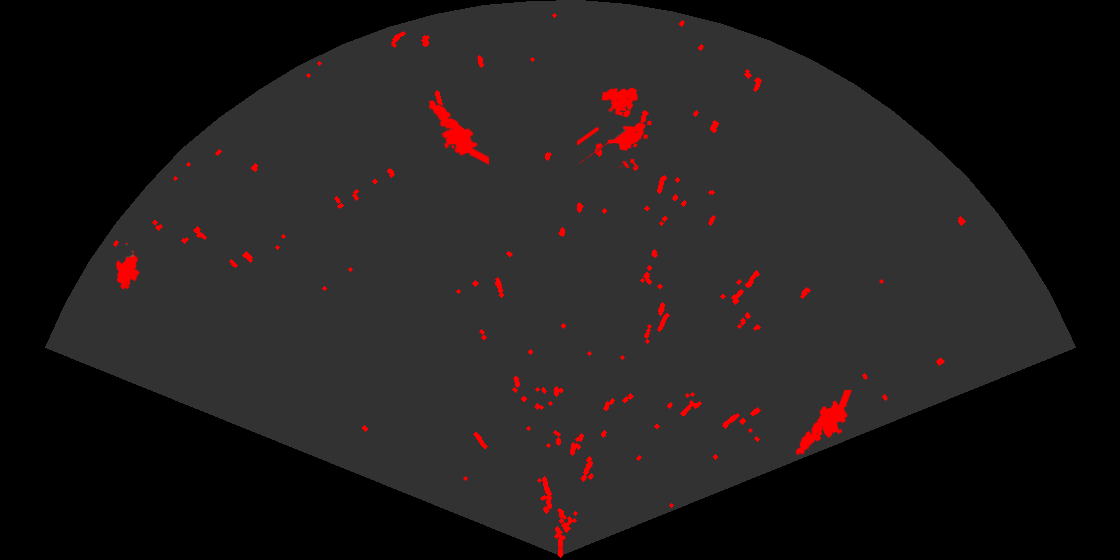AUV: (115, 241, 141, 291)
cage: (577, 86, 653, 168)
frogman: (427, 99, 489, 166), (794, 390, 853, 457)
